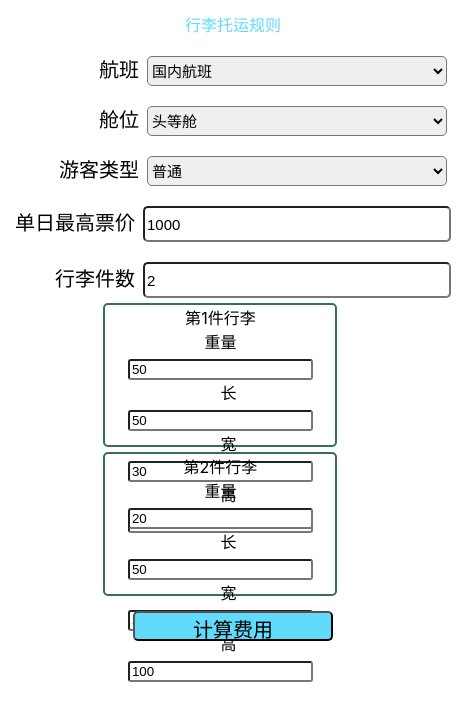
Test: App test › after click
This screenshot has width=468, height=706.
Click the button "计算费用".
click(233, 626)  # box [133,611,333,641]
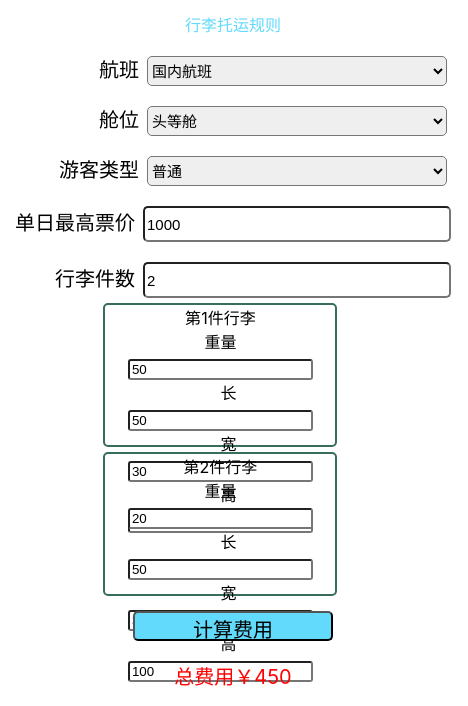
Now the text "总费用￥450" is shown, box [174,665,292,689]
